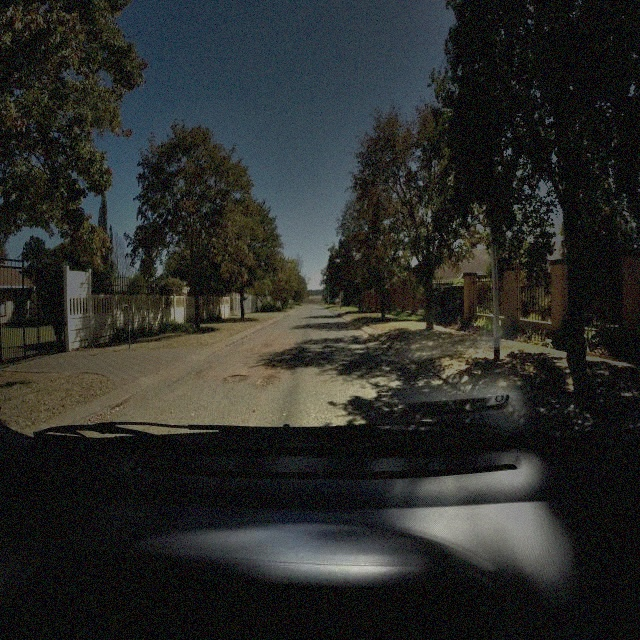pothole: (221, 371, 250, 387), (253, 373, 280, 388)
